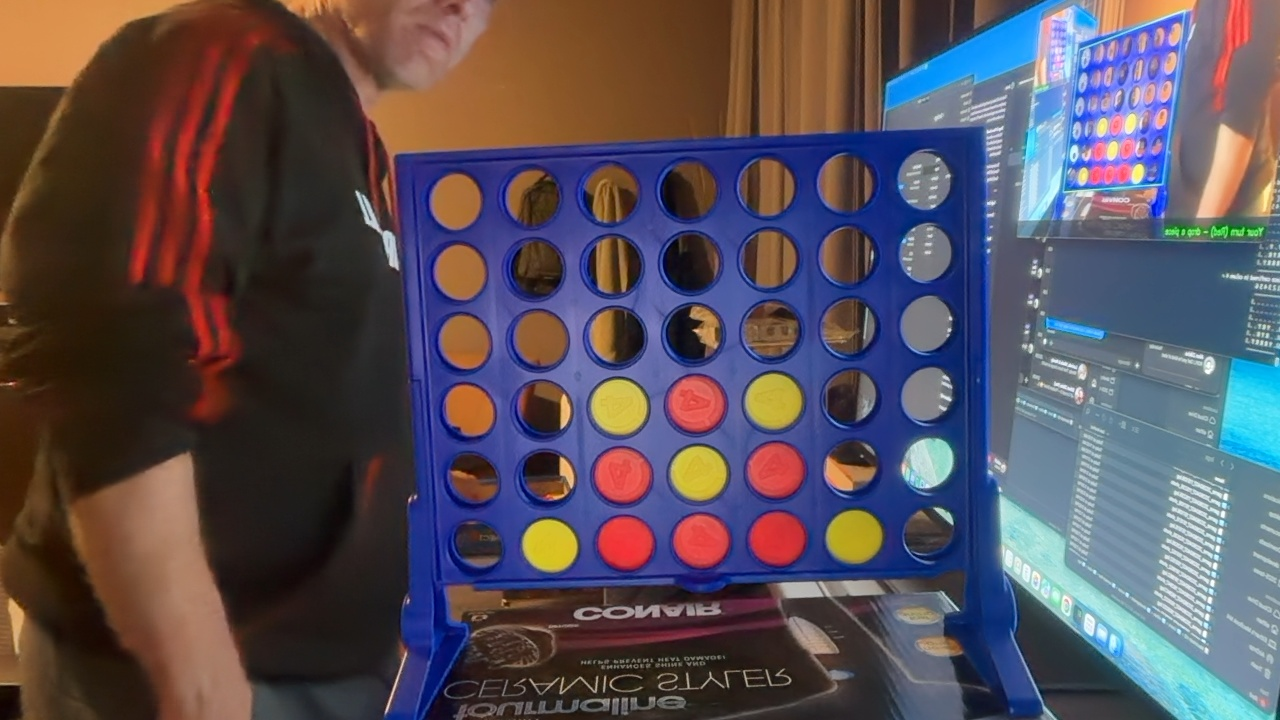red piece: (666, 375, 726, 433), (746, 442, 805, 499), (593, 447, 652, 504), (672, 513, 730, 569), (748, 511, 806, 567), (596, 516, 655, 571)
yellow piece: (589, 378, 648, 436), (744, 372, 803, 430), (669, 445, 728, 501), (825, 510, 884, 564), (521, 519, 578, 573)
